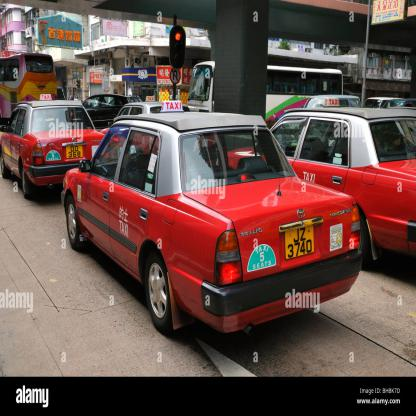taxi: (51, 96, 367, 342)
